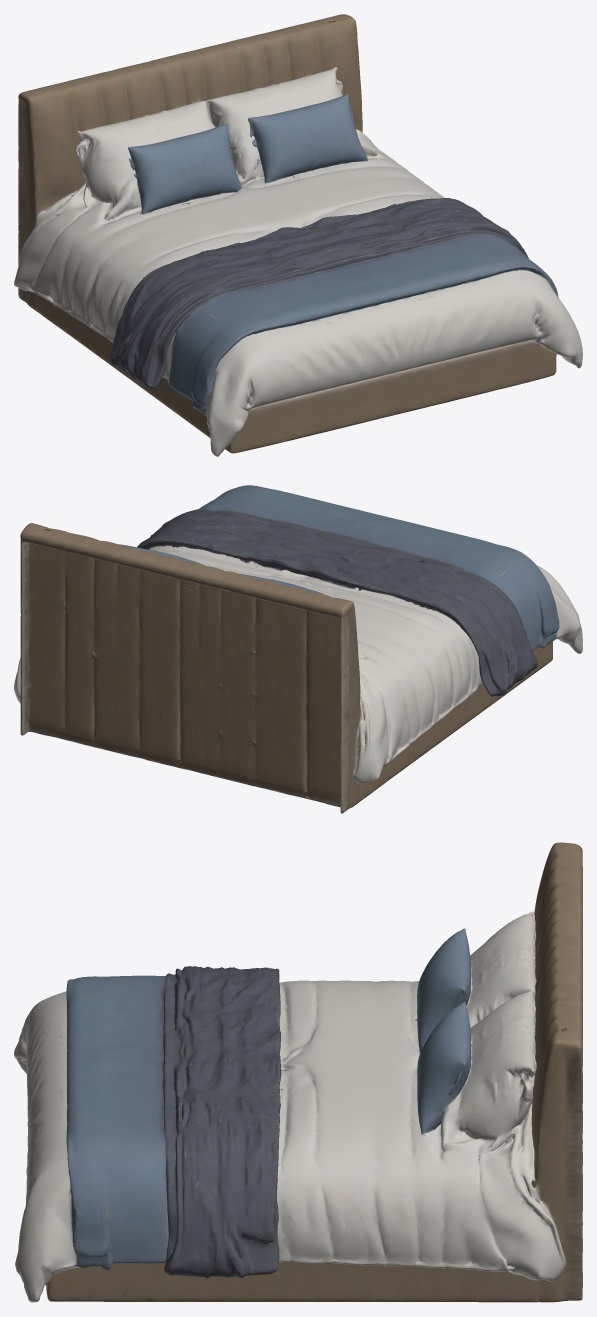
The model's file is Modern Upholstered Platform Bed with Vertical Channeled Headboard [2g4m_Z].glb.
3 renders of one model, top to bottom at view 1: azimuth 30°, elevation 25°; view 2: azimuth 150°, elevation 25°; view 3: azimuth 270°, elevation 25°, orthographic. The views are drawn at different scales.
Parts seen in each view (by area): view 1: world; view 2: world; view 3: world.
Boxes of the visible parts, x1,y1,x2,y2 form: world: (14, 14, 582, 456); world: (14, 485, 582, 813); world: (14, 842, 582, 1302).
Bounding box in the file's own units: 1 × 0.5051 × 0.99.
Materials: 1 (1 with a texture image).
